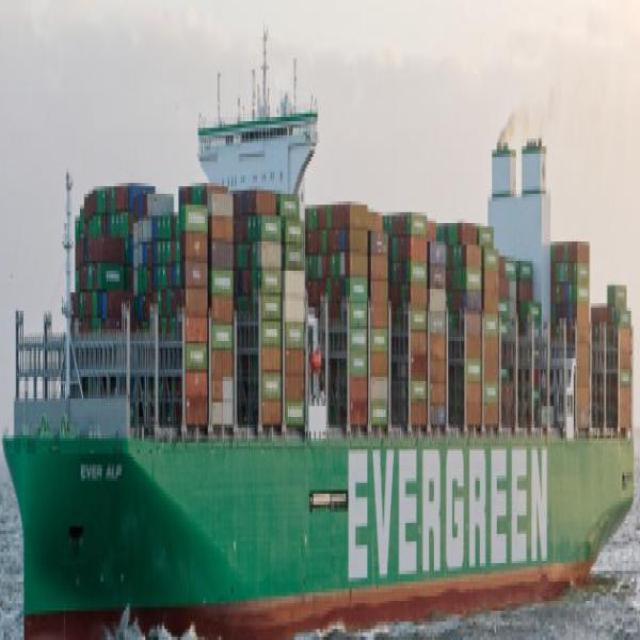Container Ship: (6, 28, 638, 638)
